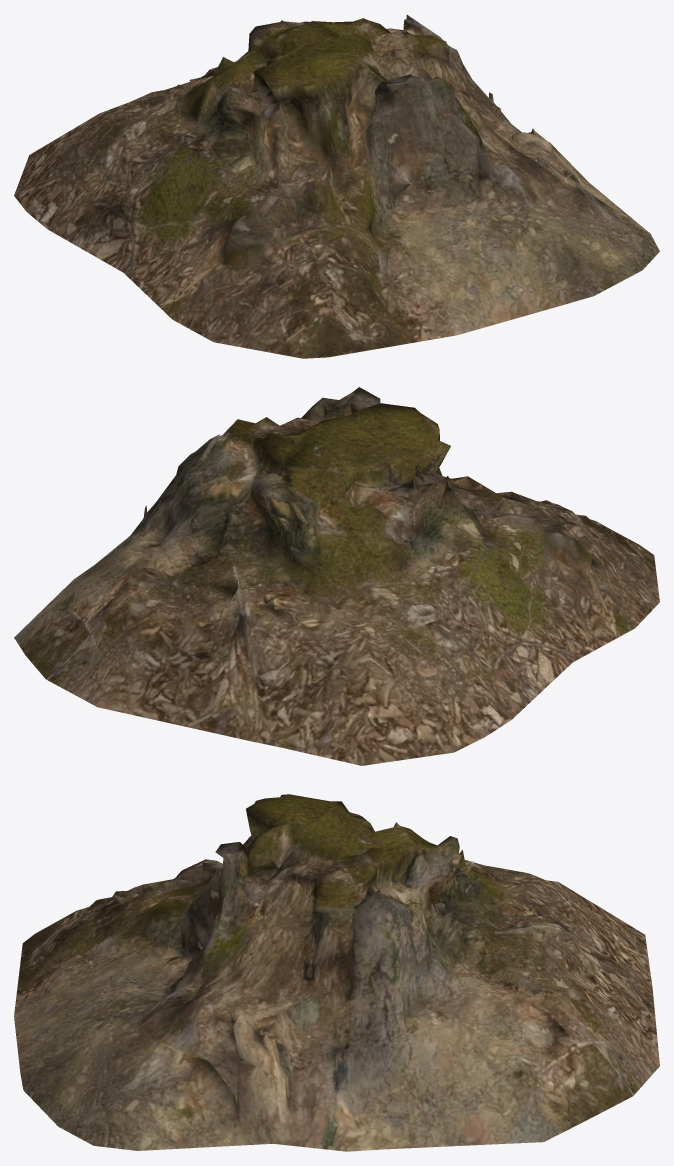
Rendered from tree_stump_01.glb.
3 views of the same model, one above another, from view 1: azimuth 30°, elevation 25°; view 2: azimuth 150°, elevation 25°; view 3: azimuth 270°, elevation 25° (orthographic). The views are drawn at different scales.
Parts seen in each view (by area): view 1: tree_stump_01; view 2: tree_stump_01; view 3: tree_stump_01.
Boxes of the visible parts, bbox=[...] form: tree_stump_01: bbox=[14, 14, 659, 358]; tree_stump_01: bbox=[14, 387, 659, 765]; tree_stump_01: bbox=[14, 794, 659, 1151].
Bounding box in the file's own units: 1.43 × 0.5624 × 1.59.
1 material, 1 textured.
